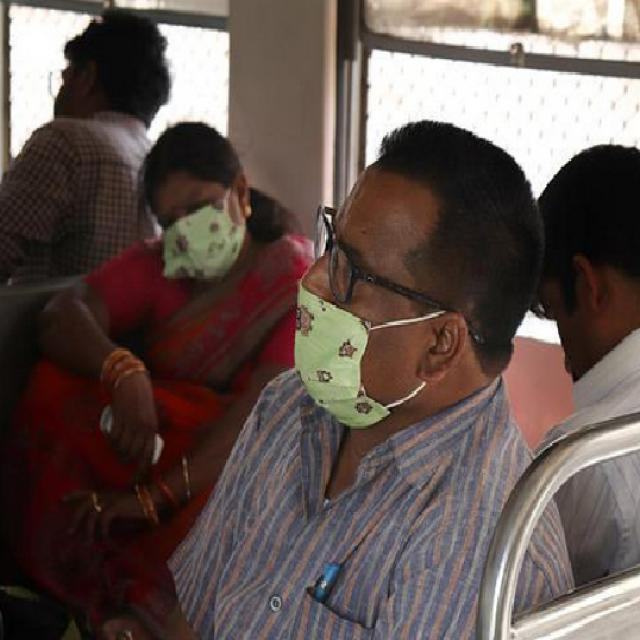mask: (290, 272, 450, 436), (158, 188, 250, 286)
